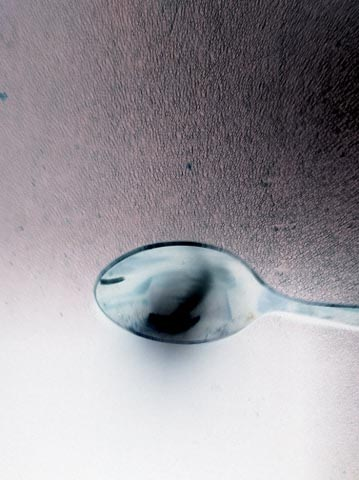Lyzka: (90, 239, 269, 347)
